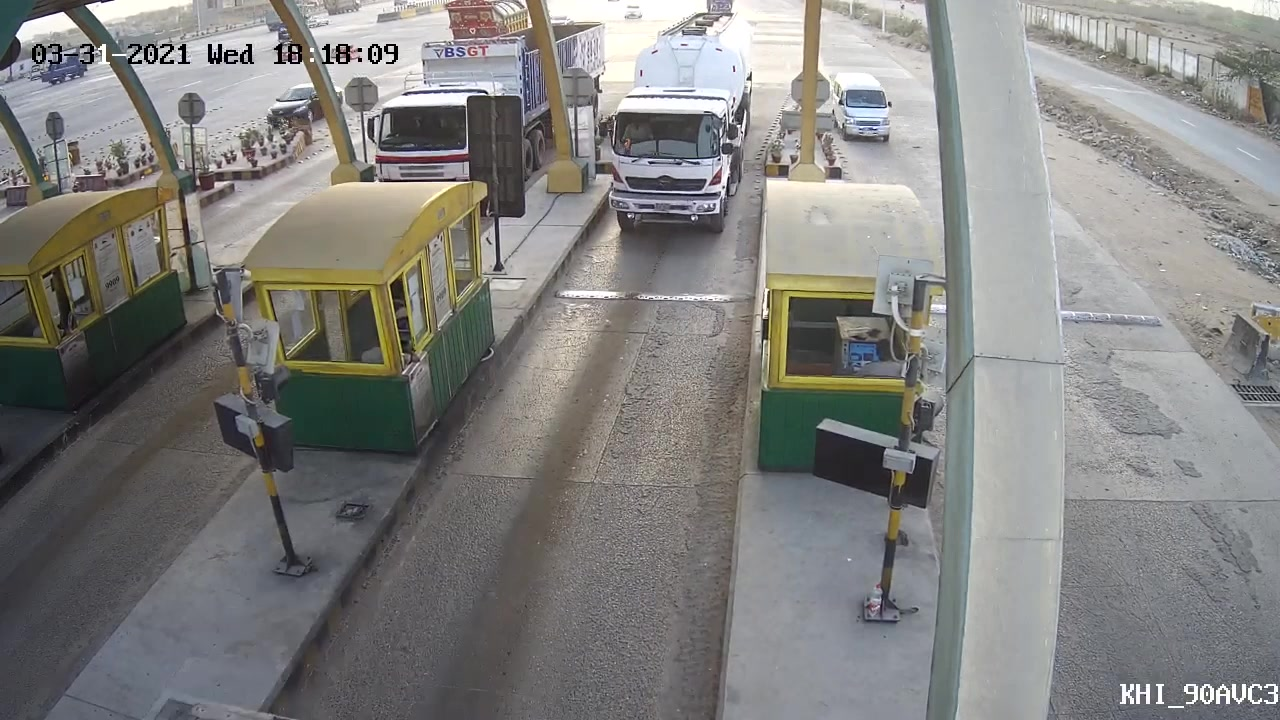F6: (596, 46, 755, 232)
